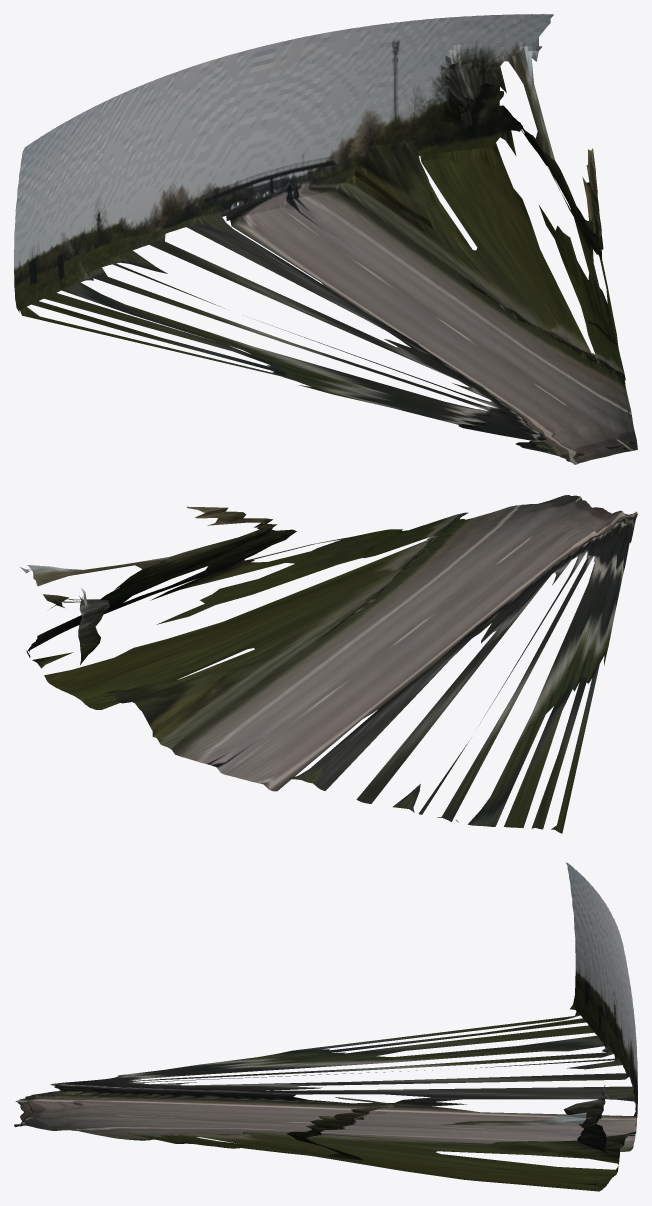
The picture shows the model from 3 angles, top to bottom: view 1: azimuth 30°, elevation 25°; view 2: azimuth 150°, elevation 25°; view 3: azimuth 270°, elevation 25°; orthographic projection. The views are drawn at different scales.
Visible parts, largest first — view 1: defaultobject; view 2: defaultobject; view 3: defaultobject.
Part boxes in pixels (x1,y1,x2,y2): defaultobject: [14, 14, 637, 464]; defaultobject: [20, 495, 637, 833]; defaultobject: [14, 862, 637, 1191].
Bounding box in the file's own units: 39.77 × 12.88 × 44.79.
Materials: 1 (1 with a texture image).
